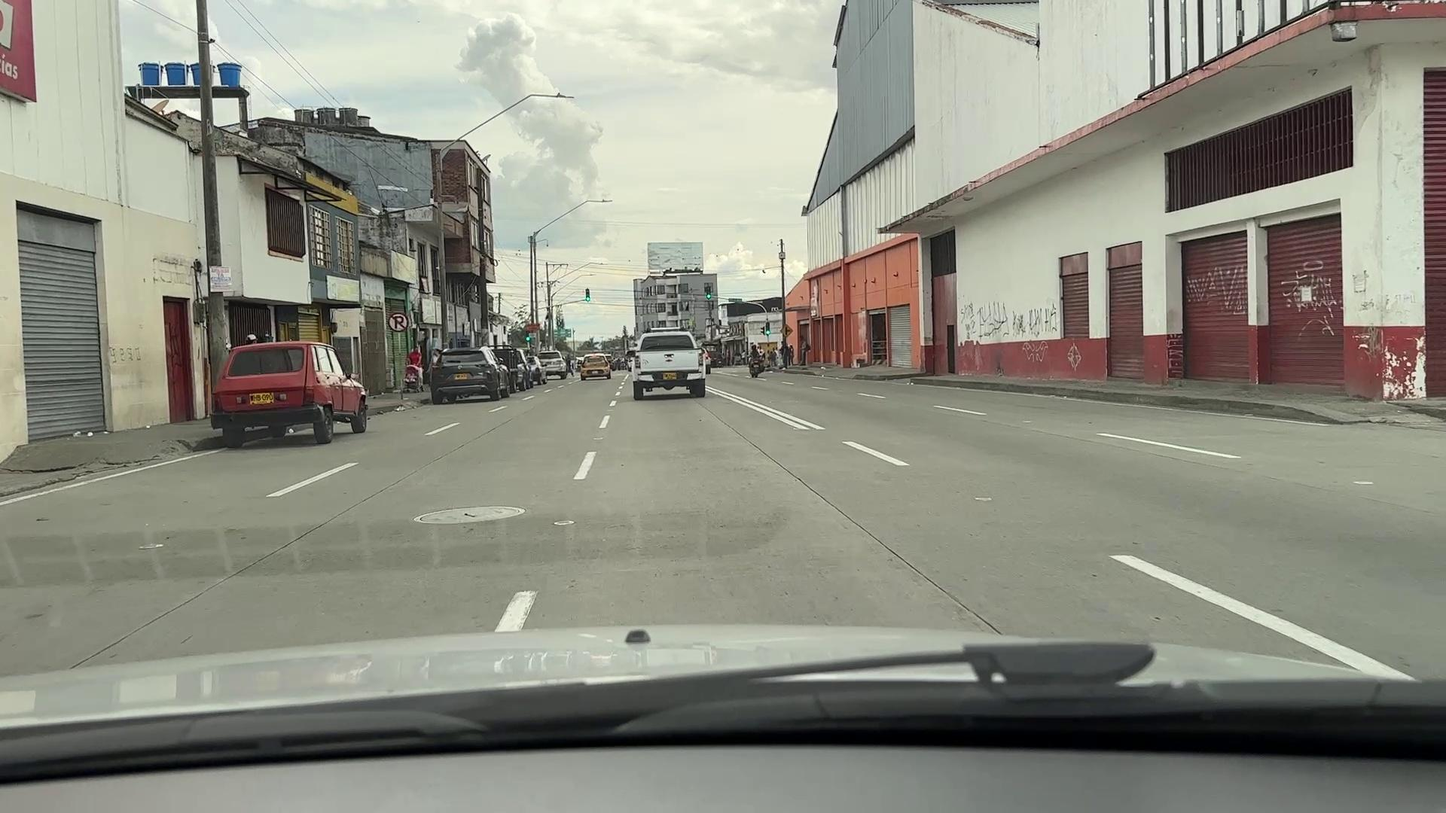registro: (413, 505, 526, 524)
